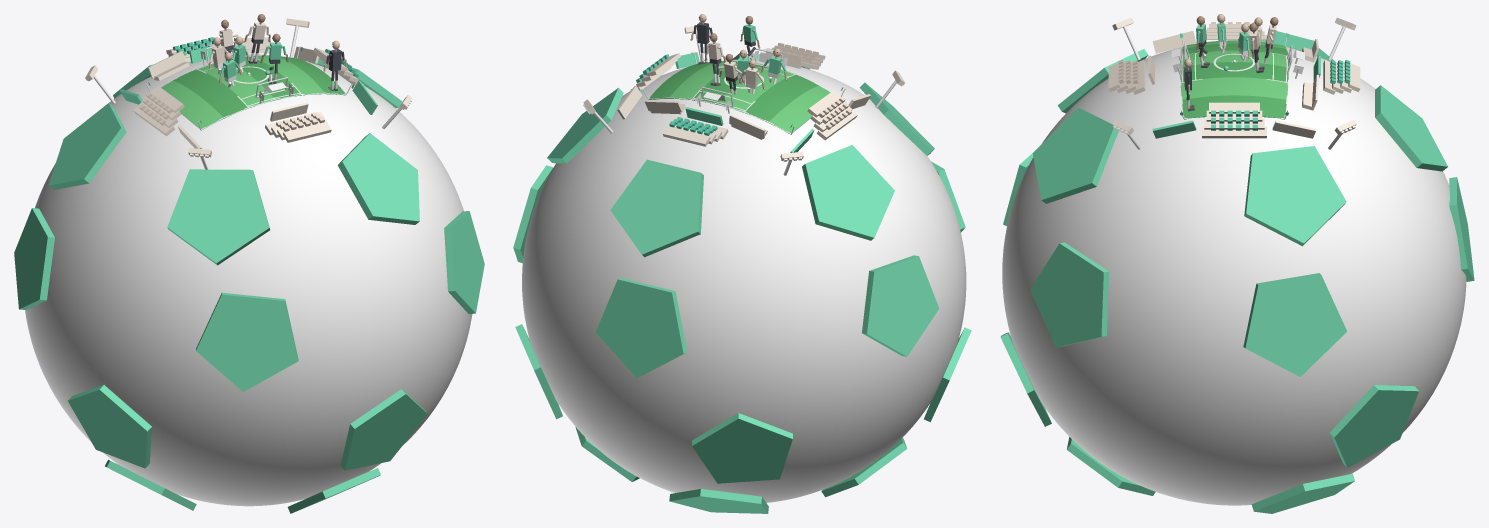
The model's file is planet-simplyfoot.glb.
The picture shows the model from 3 angles, left to right: view 1: azimuth 30°, elevation 25°; view 2: azimuth 150°, elevation 25°; view 3: azimuth 270°, elevation 25°; orthographic projection. The views are drawn at different scales.
Parts seen in each view (by area): view 1: FootballPlanet, BallPanel_08, BallPanel_03, BallPanel_04, BallPanel_12, BallPanel_13, BallPanel_02, BallPanel_07, BallPanel_09, Stripe_1, StandWest, StandSouth (+12 smaller); view 2: FootballPlanet, BallPanel_01, BallPanel_06, BallPanel_02, BallPanel_07, BallPanel_11, BallPanel_00, BallPanel_15, Stripe_1, StandWest, StandNorth, Stripe_0 (+14 smaller); view 3: FootballPlanet, BallPanel_05, BallPanel_00, BallPanel_09, BallPanel_04, BallPanel_10, BallPanel_01, StandEast, Stripe_4, BallPanel_14, Stripe_3, Stripe_5 (+10 smaller).
Part boxes in pixels (<box>): FootballPlanet: <box>25,54,472,506</box>; BallPanel_08: <box>196,292,298,391</box>; BallPanel_03: <box>167,169,270,265</box>; BallPanel_04: <box>337,133,419,224</box>; BallPanel_12: <box>68,385,151,468</box>; BallPanel_13: <box>340,389,427,470</box>; BallPanel_02: <box>48,103,126,189</box>; BallPanel_07: <box>14,208,54,309</box>; BallPanel_09: <box>444,211,484,313</box>; Stripe_1: <box>173,69,247,117</box>; StandWest: <box>133,86,184,136</box>; StandSouth: <box>265,111,331,142</box>; FootballPlanet: <box>522,59,966,502</box>; BallPanel_01: <box>610,159,703,257</box>; BallPanel_06: <box>595,278,686,377</box>; BallPanel_02: <box>802,145,894,240</box>; BallPanel_07: <box>862,255,939,356</box>; BallPanel_11: <box>692,413,792,483</box>; BallPanel_00: <box>547,88,623,163</box>; BallPanel_15: <box>669,489,768,513</box>; Stripe_1: <box>745,74,818,121</box>; StandWest: <box>807,90,857,140</box>; StandNorth: <box>663,116,728,146</box>; Stripe_0: <box>769,85,830,132</box>; FootballPlanet: <box>1002,47,1466,505</box>; BallPanel_05: <box>1243,273,1347,376</box>; BallPanel_00: <box>1244,146,1346,246</box>; BallPanel_09: <box>1030,242,1109,347</box>; BallPanel_04: <box>1032,107,1118,203</box>; BallPanel_10: <box>1329,385,1419,467</box>; BallPanel_01: <box>1375,85,1447,171</box>; StandEast: <box>1202,102,1266,138</box>; Stripe_4: <box>1180,77,1287,99</box>; BallPanel_14: <box>1251,473,1354,513</box>; Stripe_3: <box>1180,62,1288,82</box>; Stripe_5: <box>1182,95,1286,118</box>.
Size of the model in its own units: 4.17 by 4.49 by 4.08.
